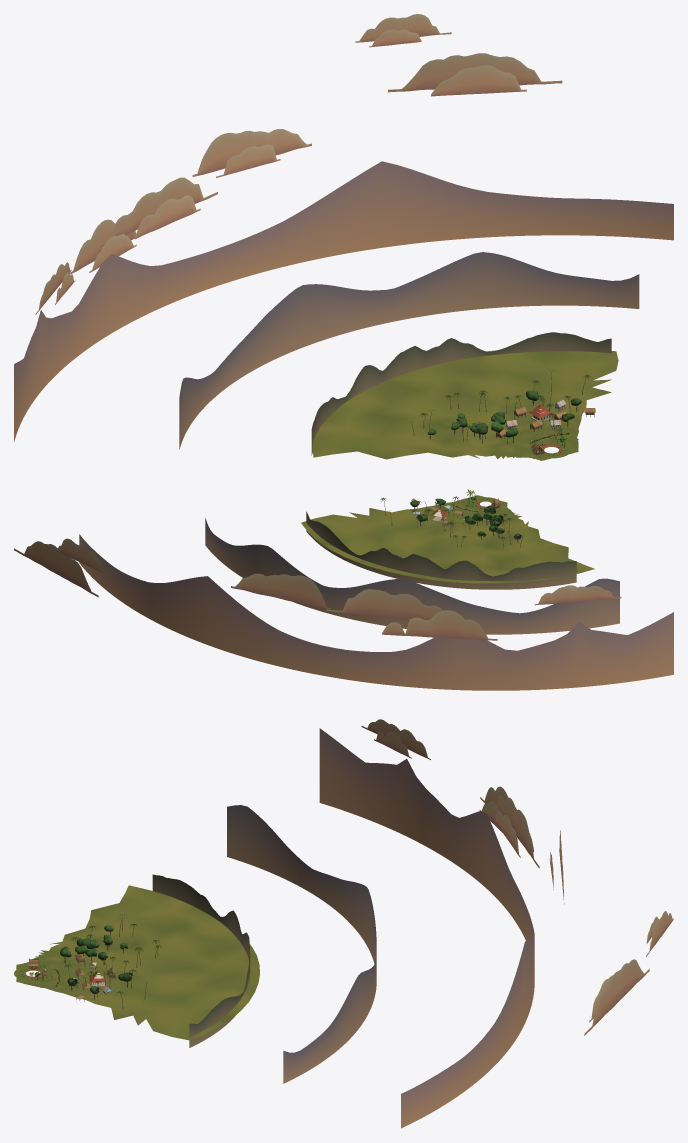
The model's file is arena_kampung.glb.
3 views of the same model, one above another, from view 1: azimuth 30°, elevation 25°; view 2: azimuth 150°, elevation 25°; view 3: azimuth 270°, elevation 25° (orthographic). The views are drawn at different scales.
Visible parts, largest first — view 1: EnvFar_MatSky_backdrop, EnvFar_MatGrass_lawn, EnvFar_MatLeaf_canopy, EnvBattle_MatGrass_lawn, EnvFar_MatWood_timber; view 2: EnvFar_MatSky_backdrop, EnvFar_MatGrass_lawn, EnvFar_MatLeaf_canopy, EnvFar_MatWood_timber, EnvBattle_MatGrass_lawn; view 3: EnvFar_MatSky_backdrop, EnvFar_MatGrass_lawn, EnvFar_MatLeaf_canopy, EnvBattle_MatGrass_lawn, EnvFar_MatWood_timber.
Part boxes in pixels (box(x1,y1,x2,y2)): EnvFar_MatSky_backdrop: box(14, 14, 673, 455); EnvFar_MatGrass_lawn: box(312, 350, 618, 459); EnvFar_MatLeaf_canopy: box(411, 370, 591, 443); EnvBattle_MatGrass_lawn: box(512, 433, 578, 460); EnvFar_MatWood_timber: box(410, 371, 594, 444); EnvFar_MatSky_backdrop: box(14, 511, 673, 690); EnvFar_MatGrass_lawn: box(301, 501, 594, 583); EnvFar_MatLeaf_canopy: box(380, 496, 522, 539); EnvFar_MatWood_timber: box(383, 498, 522, 547); EnvBattle_MatGrass_lawn: box(454, 495, 511, 516); EnvFar_MatSky_backdrop: box(152, 719, 673, 1128); EnvFar_MatGrass_lawn: box(35, 885, 259, 1040); EnvFar_MatLeaf_canopy: box(54, 914, 161, 995); EnvBattle_MatGrass_lawn: box(14, 958, 69, 988); EnvFar_MatWood_timber: box(60, 915, 158, 1008).
Size of the model in its own units: 488 by 105 by 418.
